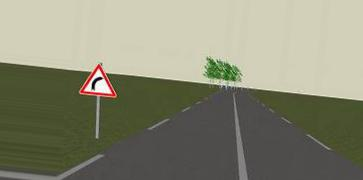right: (77, 62, 118, 97)
